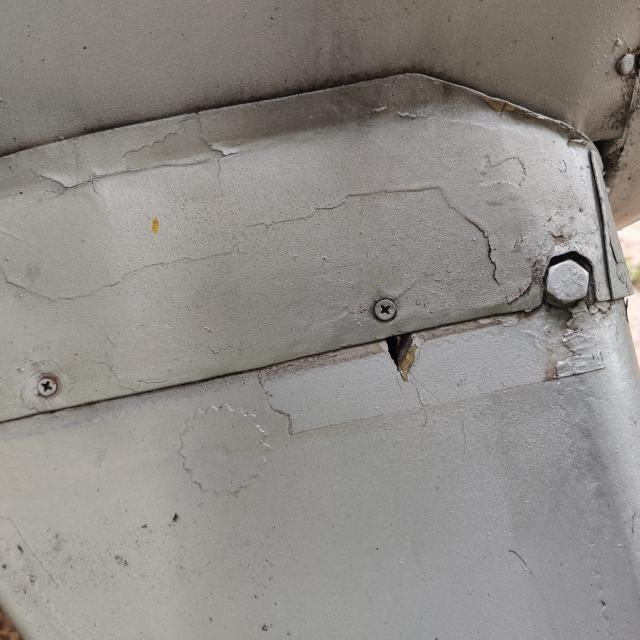crack: (367, 316, 442, 399)
